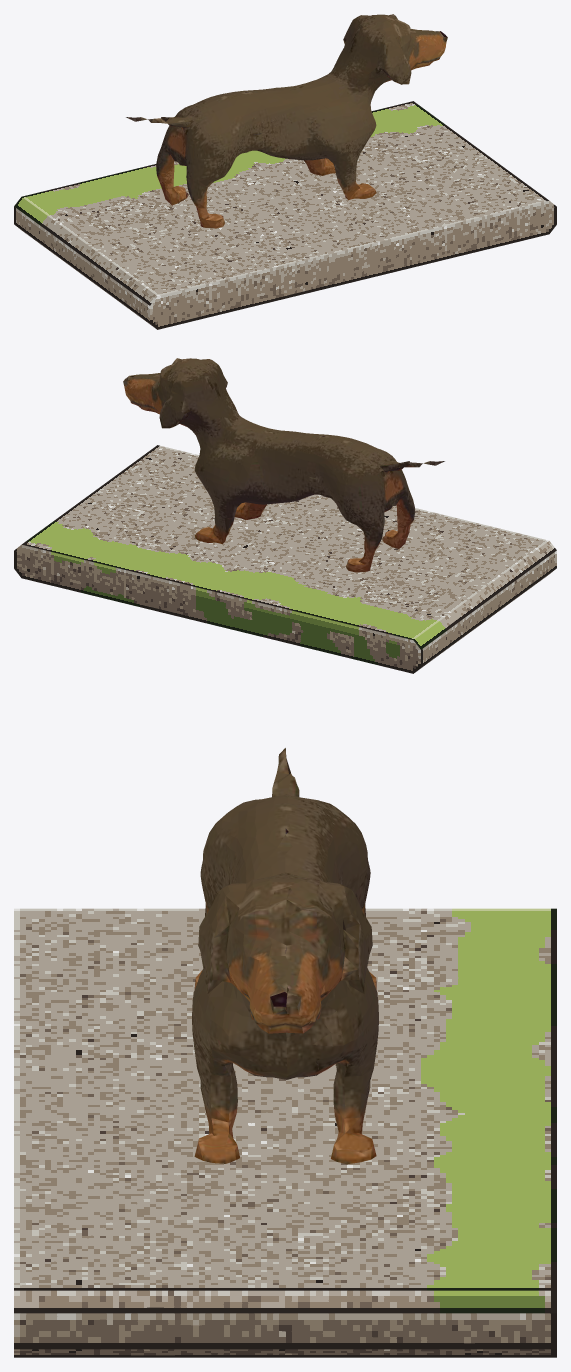
The model's file is dachs.glb.
3 renders of one model, top to bottom at view 1: azimuth 30°, elevation 25°; view 2: azimuth 150°, elevation 25°; view 3: azimuth 270°, elevation 25°, orthographic. The views are drawn at different scales.
Visible parts, largest first — view 1: base, model_dog; view 2: base, model_dog; view 3: base, model_dog.
Part boxes in pixels (<box>): base: <box>14,101,556,329</box>; model_dog: <box>126,14,447,228</box>; base: <box>14,445,556,673</box>; model_dog: <box>123,358,444,572</box>; base: <box>14,908,556,1357</box>; model_dog: <box>192,748,378,1164</box>.
Bounding box in the file's own units: 38 × 17 × 22.
2 materials, 2 textured.
